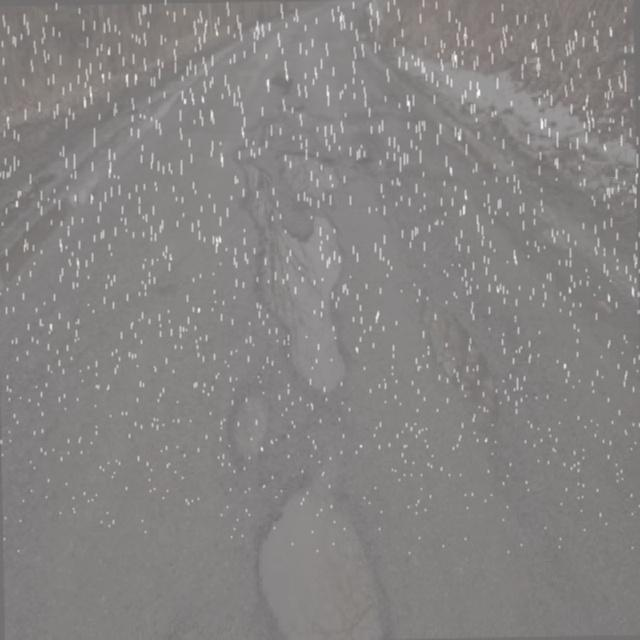Pothole: (209, 68, 385, 400), (247, 450, 390, 640), (421, 296, 520, 434), (200, 382, 278, 464)
